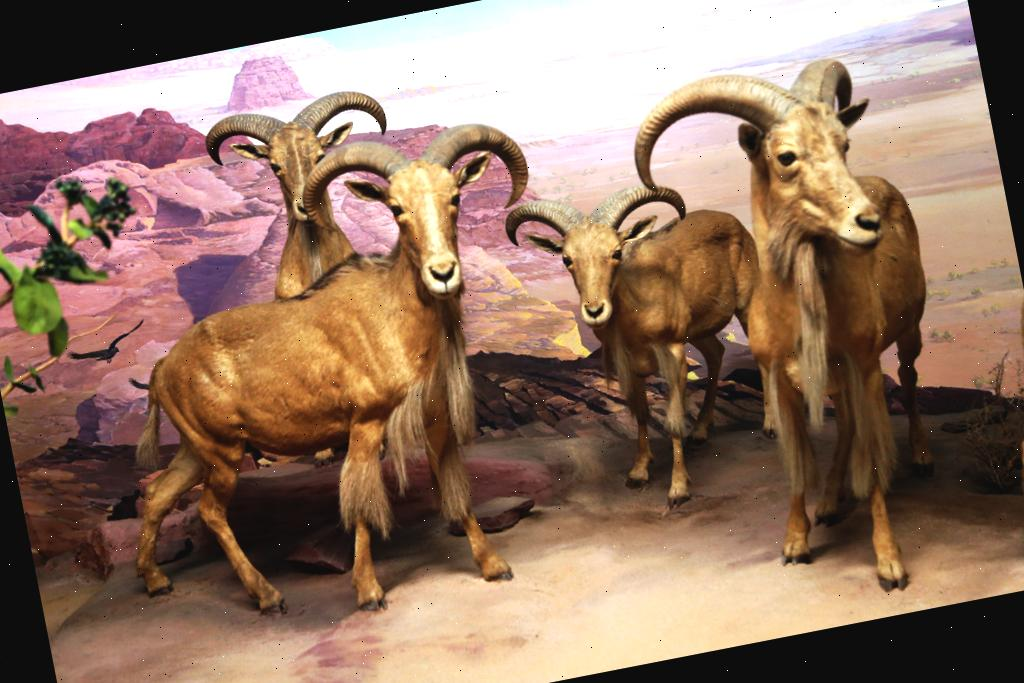Sheep: (72, 85, 608, 675), (601, 9, 1013, 646), (186, 53, 464, 528), (490, 139, 810, 546)
